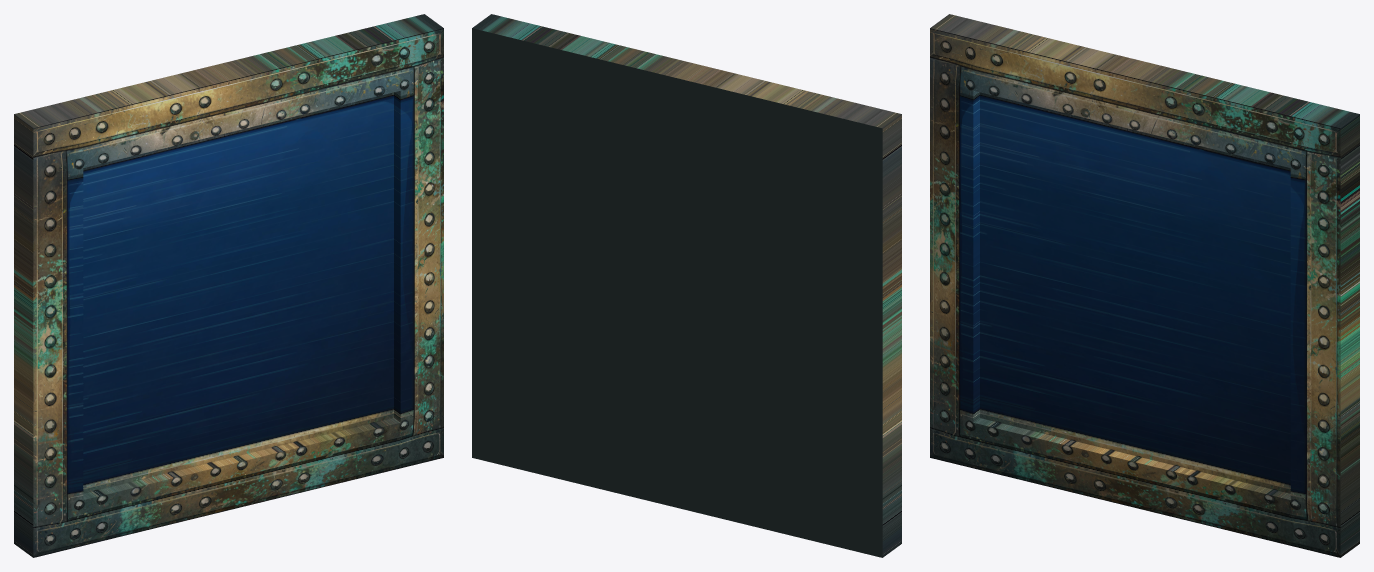
File: panel_hud.glb
3 views of the same model, side by side, from view 1: azimuth 30°, elevation 25°; view 2: azimuth 150°, elevation 25°; view 3: azimuth 330°, elevation 25° (orthographic).
Parts seen in each view (by area): view 1: panel_hud; view 2: panel_hud; view 3: panel_hud.
Part boxes in pixels (<box>): panel_hud: <box>14,14,443,557</box>; panel_hud: <box>472,14,901,557</box>; panel_hud: <box>930,14,1359,557</box>.
Size of the model in its own units: 0.44 by 0.44 by 0.042.
1 material, 1 textured.
